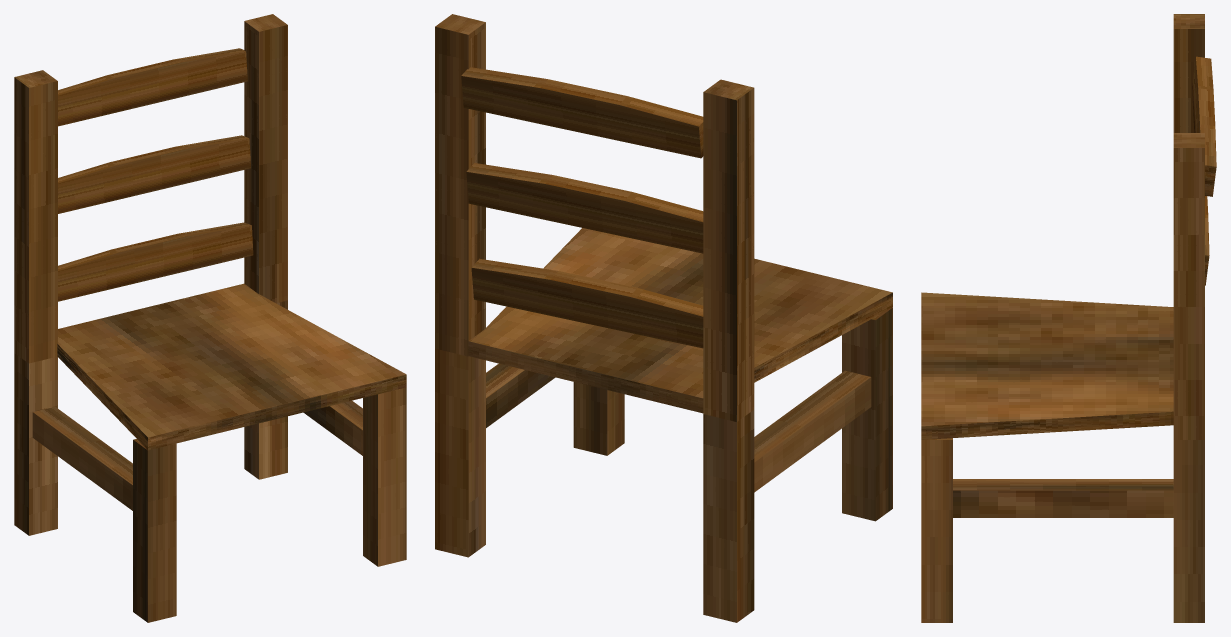
The model's file is Chair2.glb.
3 renders of one model, left to right at view 1: azimuth 30°, elevation 25°; view 2: azimuth 150°, elevation 25°; view 3: azimuth 270°, elevation 25°, orthographic. The views are drawn at different scales.
Parts seen in each view (by area): view 1: Cube.005, Cube.006, Cube.002, Cube.003, Cube.004, Cube, Cube.001; view 2: Cube.006, Cube.005, Cube, Cube.003, Cube.004, Cube.002, Cube.001; view 3: Cube.005, Cube.004, Cube.001, Cube.002, Cube, Cube.003, Cube.006.
Part boxes in pixels (x1=…): Cube.005: x1=57, y1=283, x2=406, y2=450; Cube.006: x1=58, y1=48, x2=253, y2=301; Cube.002: x1=133, y1=387, x2=406, y2=622; Cube.003: x1=14, y1=70, x2=57, y2=363; Cube.004: x1=244, y1=14, x2=287, y2=303; Cube: x1=14, y1=300, x2=287, y2=535; Cube.001: x1=32, y1=400, x2=362, y2=510; Cube.006: x1=461, y1=67, x2=703, y2=348; Cube.005: x1=468, y1=228, x2=892, y2=413; Cube: x1=435, y1=348, x2=754, y2=622; Cube.003: x1=703, y1=79, x2=754, y2=421; Cube.004: x1=435, y1=14, x2=485, y2=356; Cube.002: x1=573, y1=307, x2=892, y2=521; Cube.001: x1=486, y1=363, x2=871, y2=492; Cube.005: x1=921, y1=292, x2=1173, y2=439; Cube.004: x1=1173, y1=133, x2=1204, y2=439; Cube.001: x1=953, y1=479, x2=1173, y2=517; Cube.002: x1=921, y1=438, x2=952, y2=622; Cube: x1=1173, y1=440, x2=1204, y2=622; Cube.003: x1=1173, y1=14, x2=1204, y2=132; Cube.006: x1=1192, y1=56, x2=1216, y2=285.
Bounding box in the file's own units: 0.8246 × 1.36 × 0.7683.
1 material, 1 textured.
